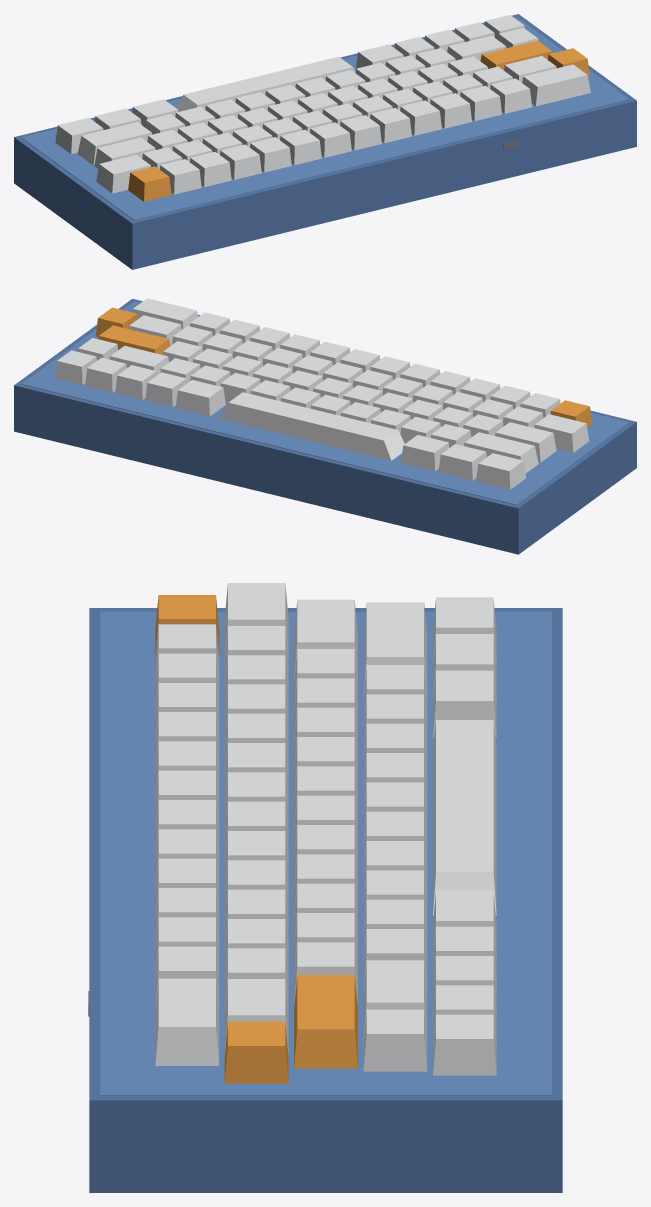
File: aether_k1.glb
3 renders of one model, top to bottom at view 1: azimuth 30°, elevation 25°; view 2: azimuth 150°, elevation 25°; view 3: azimuth 270°, elevation 25°, orthographic. The views are drawn at different scales.
Parts seen in each view (by area): view 1: Case_Top, Case_Top_Bezel, Keycap_R0_Space, Keycap_R4_BkSp, Keycap_R1_LShift, Keycap_R3_Tab, Keycap_R4_Esc, Keycap_R2_Enter, Keycap_R4_6, Keycap_R4_0, Keycap_R4_1, Keycap_R4_3 (+54 smaller); view 2: Case_Top, Case_Top_Bezel, Keycap_R0_Space, Keycap_R0_AltGr, Keycap_R0_Ctrl, Keycap_R1_LShift, Keycap_R3_Tab, Keycap_R0_Win, Keycap_R0_Alt, Keycap_R2_Caps, Keycap_R2_Enter, Keycap_R4_BkSp (+54 smaller); view 3: Case_Top_Bezel, Case_Top, Keycap_R0_Space, Keycap_R2_Enter, Keycap_R4_BkSp, Keycap_R1_LShift, Keycap_R1_Up, Keycap_R3_Del, Keycap_R0_Right, Keycap_R1_RShift, Keycap_R2_Caps, Keycap_R0_Alt (+54 smaller).
Boxes of the visible parts, x1=… form: Case_Top: x1=14, y1=14, x2=636, y2=269; Case_Top_Bezel: x1=21, y1=16, x2=629, y2=220; Keycap_R0_Space: x1=177, y1=56, x2=355, y2=111; Keycap_R4_BkSp: x1=522, y1=64, x2=590, y2=106; Keycap_R1_LShift: x1=77, y1=122, x2=151, y2=165; Keycap_R3_Tab: x1=96, y1=155, x2=150, y2=193; Keycap_R4_Esc: x1=128, y1=166, x2=171, y2=201; Keycap_R2_Enter: x1=480, y1=40, x2=552, y2=70; Keycap_R4_6: x1=310, y1=122, x2=351, y2=157; Keycap_R4_0: x1=430, y1=93, x2=471, y2=128; Keycap_R4_1: x1=159, y1=159, x2=201, y2=194; Keycap_R4_3: x1=220, y1=144, x2=261, y2=179; Case_Top: x1=14, y1=299, x2=636, y2=554; Case_Top_Bezel: x1=21, y1=301, x2=629, y2=505; Keycap_R0_Space: x1=219, y1=392, x2=404, y2=460; Keycap_R0_AltGr: x1=175, y1=380, x2=225, y2=416; Keycap_R0_Ctrl: x1=476, y1=453, x2=526, y2=489; Keycap_R1_LShift: x1=464, y1=432, x2=538, y2=473; Keycap_R3_Tab: x1=534, y1=414, x2=589, y2=452; Keycap_R0_Win: x1=438, y1=444, x2=486, y2=480; Keycap_R0_Alt: x1=401, y1=435, x2=449, y2=471; Keycap_R2_Caps: x1=495, y1=422, x2=556, y2=462; Keycap_R2_Enter: x1=98, y1=325, x2=170, y2=354; Keycap_R4_BkSp: x1=132, y1=298, x2=197, y2=329; Case_Top_Bezel: x1=100, y1=611, x2=551, y2=1095; Case_Top: x1=89, y1=608, x2=562, y2=1192; Keycap_R0_Space: x1=433, y1=720, x2=496, y2=915; Keycap_R2_Enter: x1=294, y1=975, x2=357, y2=1068; Keycap_R4_BkSp: x1=155, y1=978, x2=219, y2=1065; Keycap_R1_LShift: x1=363, y1=602, x2=427, y2=695; Keycap_R1_Up: x1=363, y1=1009, x2=427, y2=1071; Keycap_R3_Del: x1=224, y1=1021, x2=288, y2=1083; Keycap_R0_Right: x1=433, y1=1014, x2=496, y2=1075; Keycap_R1_RShift: x1=363, y1=960, x2=427, y2=1040; Keycap_R2_Caps: x1=294, y1=599, x2=357, y2=680; Keycap_R0_Alt: x1=433, y1=670, x2=496, y2=737.
Bounding box in the file's own units: 3.2 × 0.407 × 1.3.
